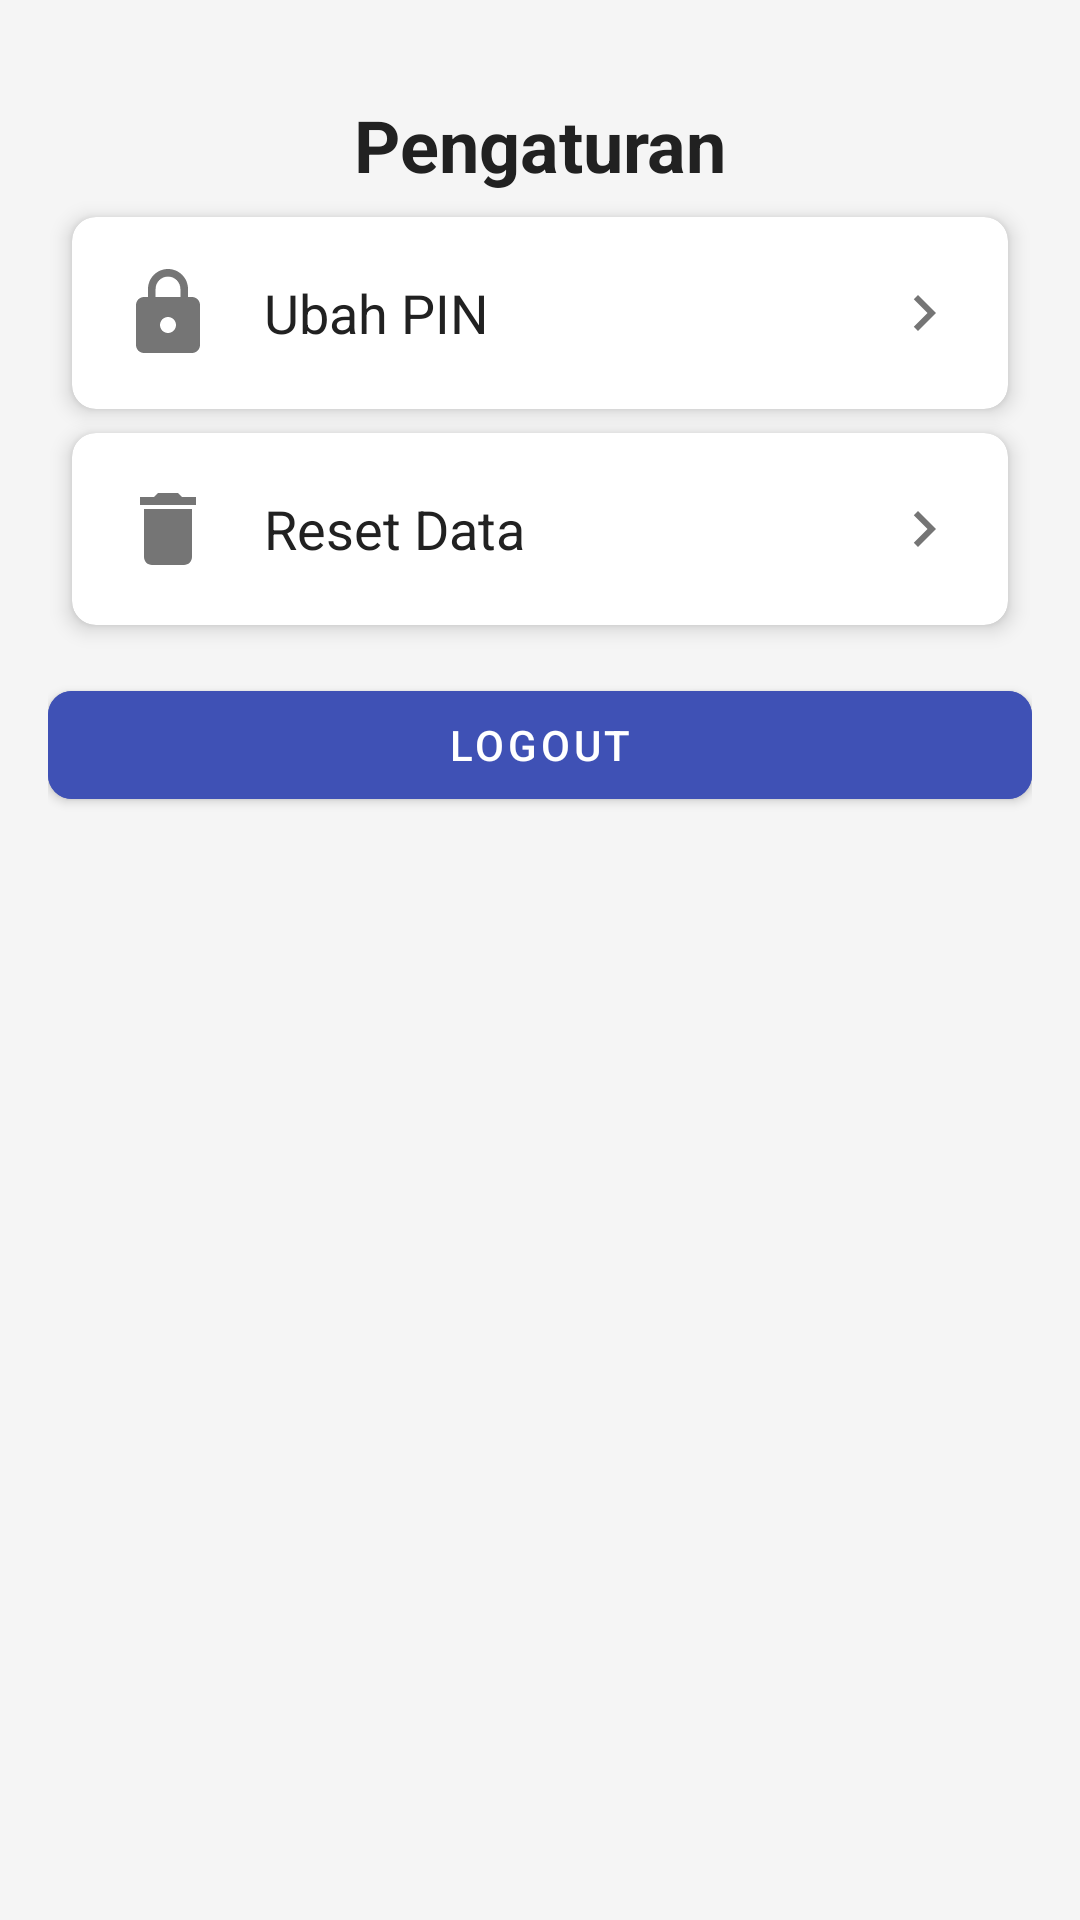

Where icons sit on this 1080 x 1920 app screen, as (x1, y1, x2, y2):
chevron right: (914, 295, 936, 331), (914, 511, 936, 547)
delete: (140, 493, 196, 565)
lock: (136, 269, 200, 353)
